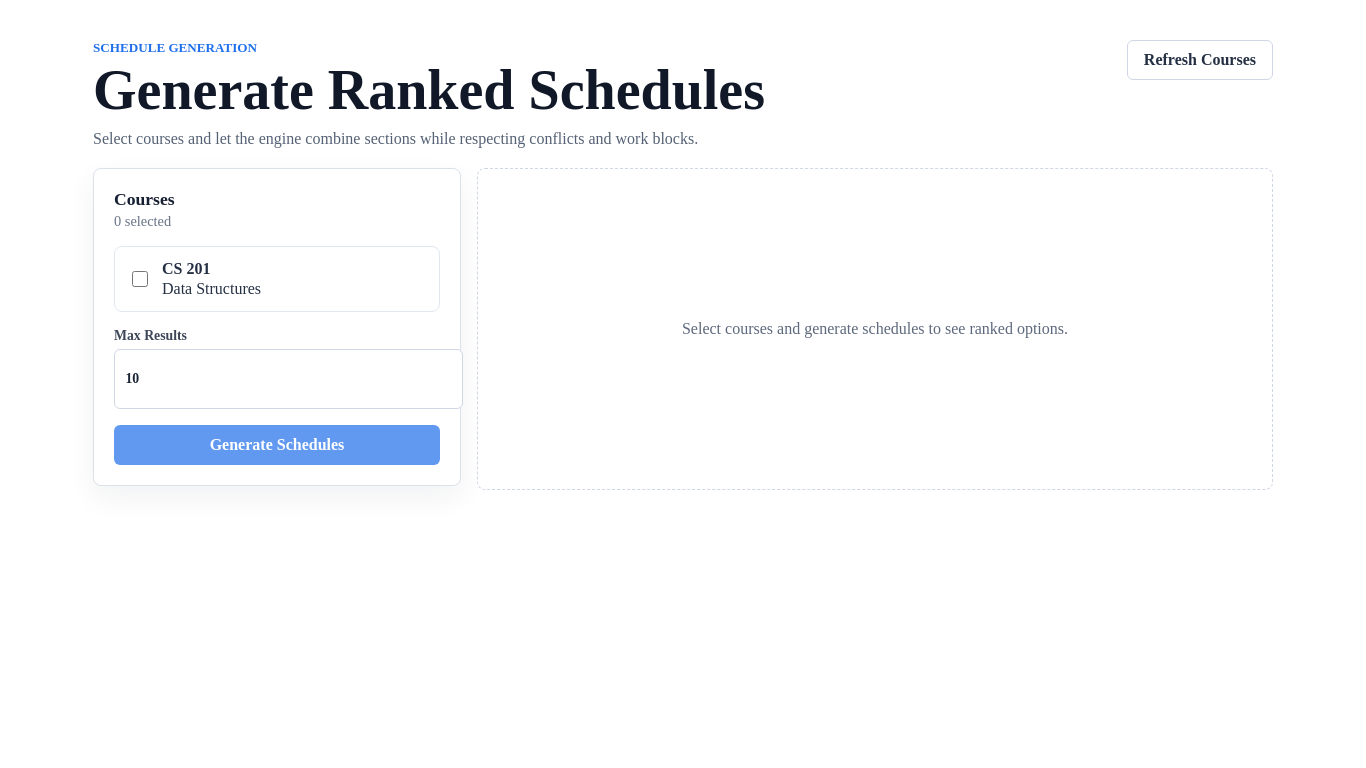
Test: ScheduleGeneratorView › generates schedules for selected courses
Click the checkbox labelled "CS 201 Data Structures": (140, 279) x1=132 y1=271 x2=148 y2=287
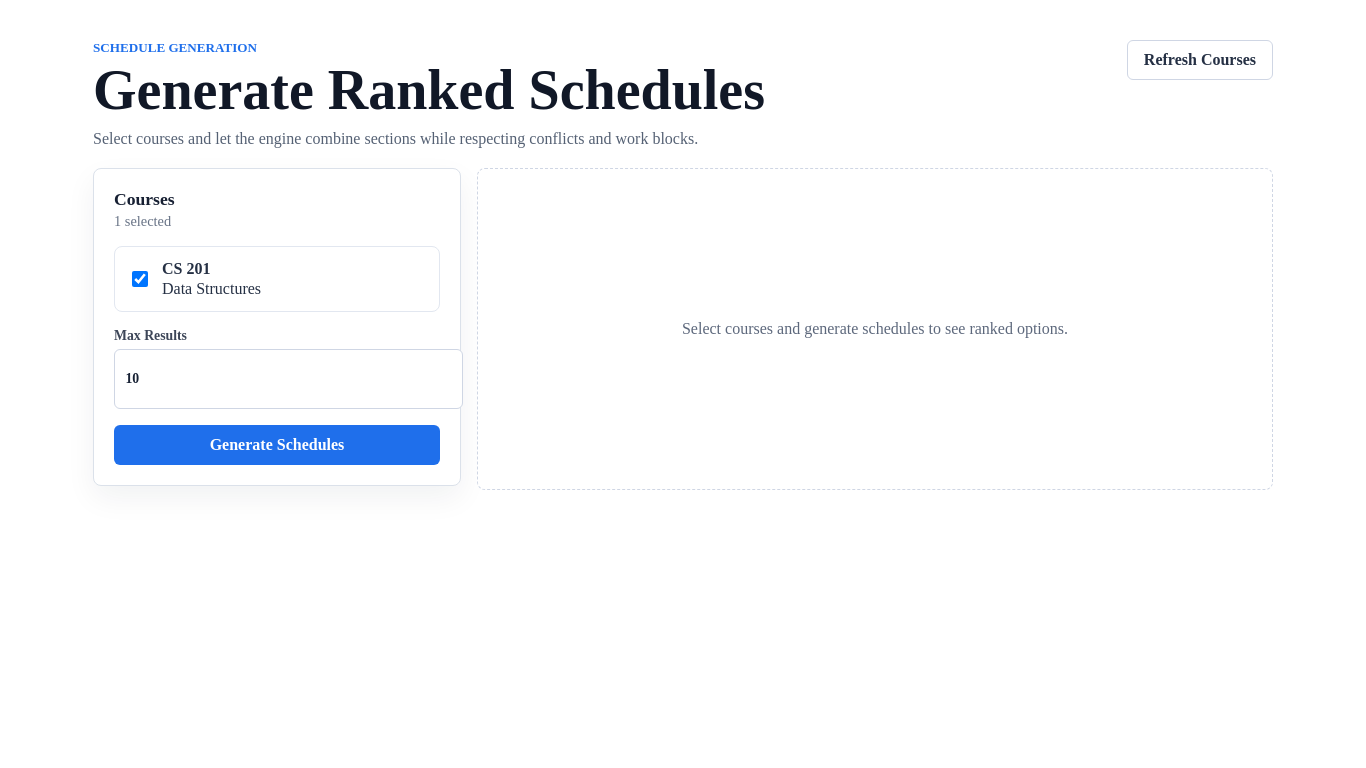
Click the button "Generate Schedules": (277, 445) x1=114 y1=425 x2=440 y2=465
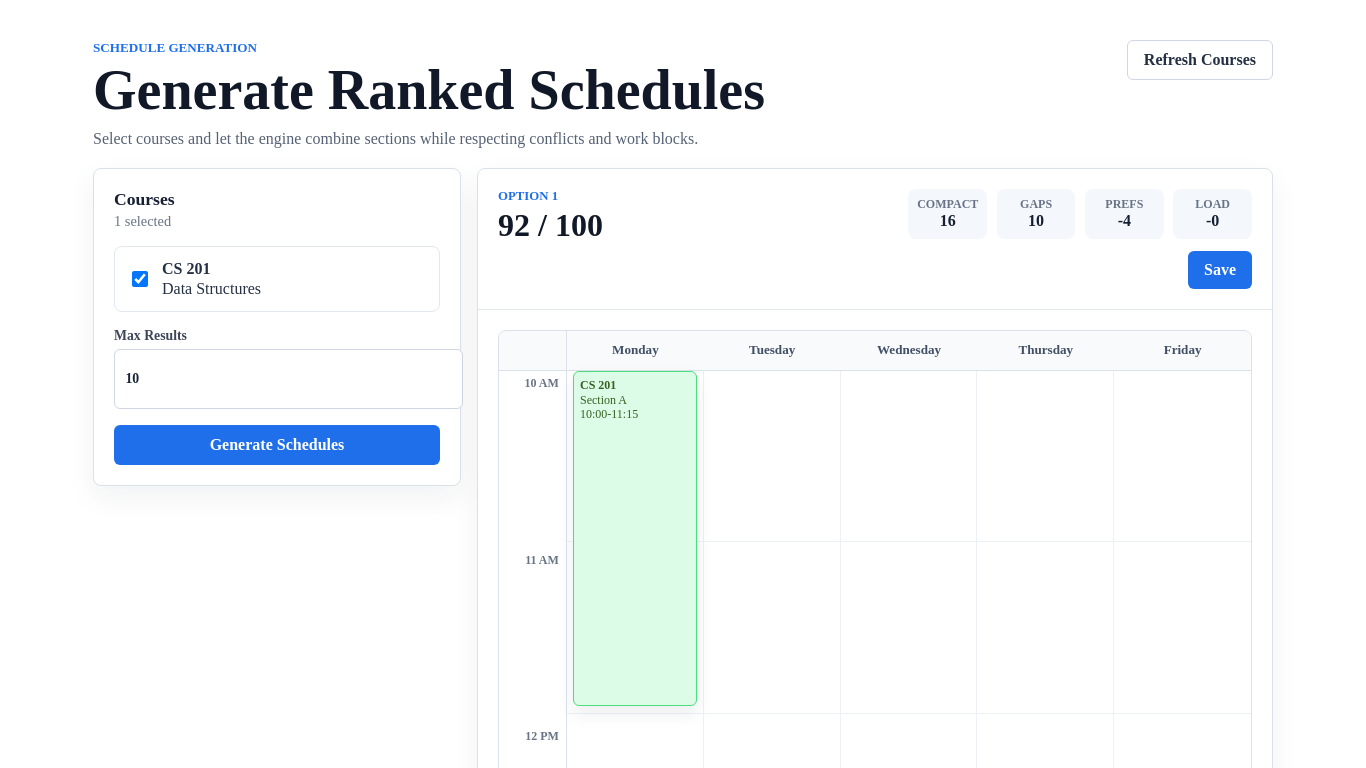
Result: the text "Option 1" is shown at x1=498 y1=189 x2=558 y2=203
Result: the text "92 / 100" is shown at x1=498 y1=207 x2=603 y2=244
